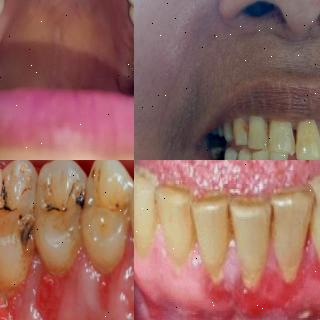Gum Swelling: (134, 223, 241, 300), (57, 231, 134, 320), (37, 266, 69, 318), (96, 269, 120, 305)
calculus: (239, 258, 265, 303), (278, 257, 300, 307), (201, 262, 227, 300)
cavities: (0, 176, 36, 258), (42, 185, 90, 232)
stains: (86, 167, 130, 240), (222, 204, 239, 242), (265, 205, 279, 251), (256, 116, 272, 150), (240, 119, 252, 141), (212, 146, 226, 160)
